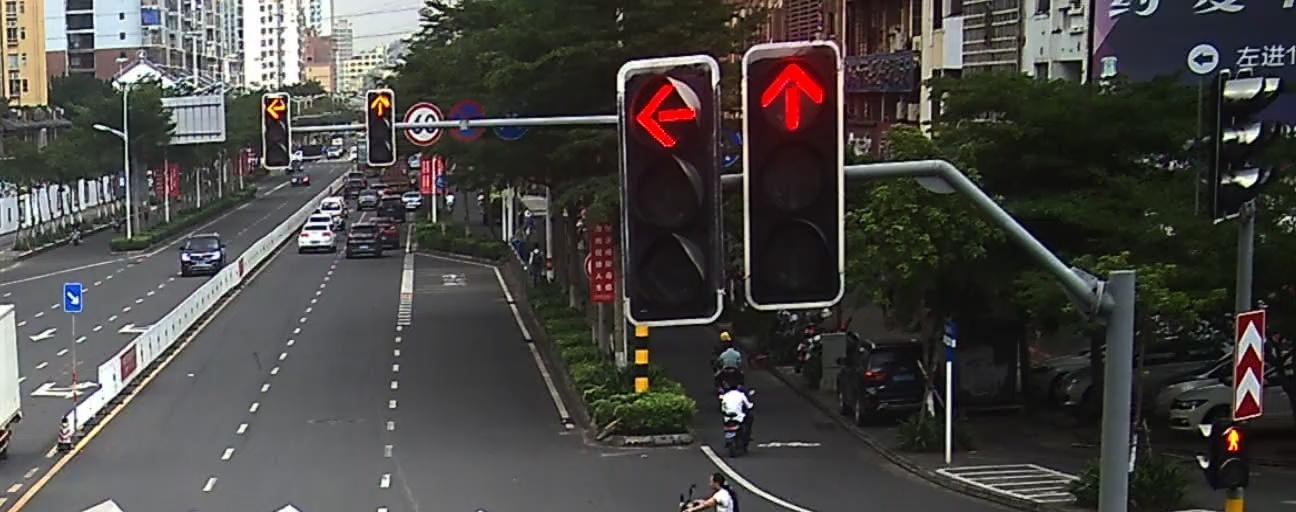redleft: (630, 83, 702, 149), (264, 97, 288, 123)
redpeople: (1219, 425, 1243, 454)
redstraight: (753, 59, 829, 134), (368, 91, 393, 117)
